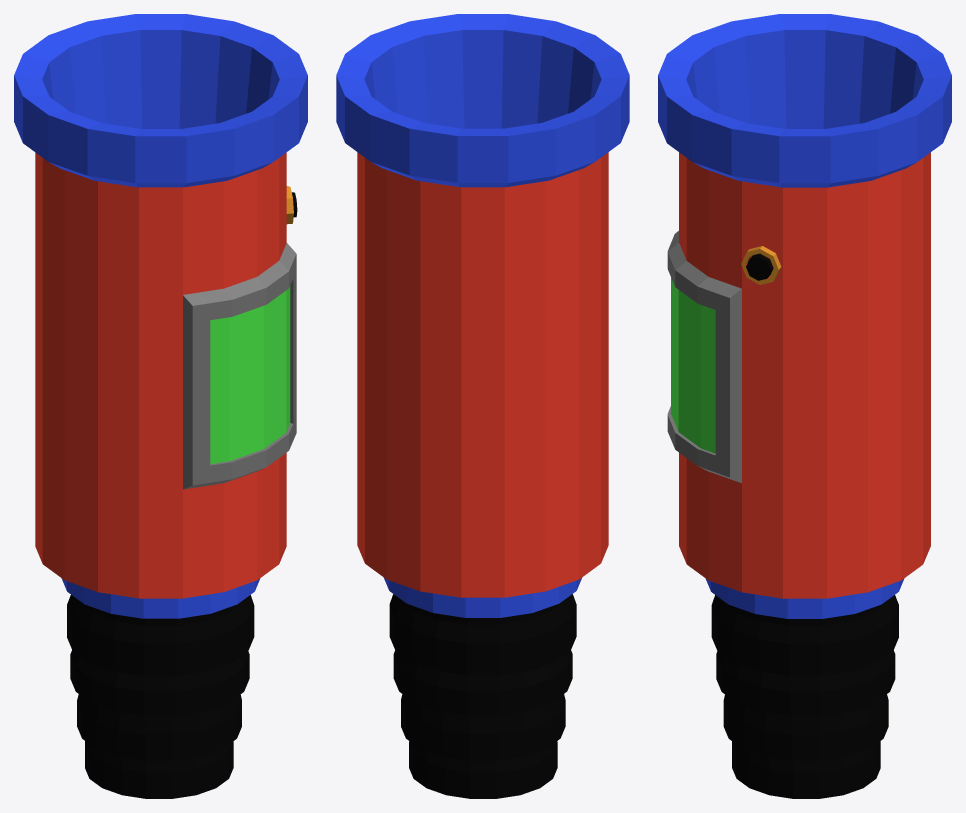
The model's file is VacuumNozzle.fbx.
The picture shows the model from 3 angles, left to right: view 1: azimuth 30°, elevation 25°; view 2: azimuth 150°, elevation 25°; view 3: azimuth 270°, elevation 25°; orthographic projection.
Parts seen in each view (by area): view 1: Cylinder; view 2: Cylinder; view 3: Cylinder.
Boxes of the visible parts, x1=… form: Cylinder: x1=14, y1=14, x2=307, y2=798; Cylinder: x1=336, y1=14, x2=629, y2=798; Cylinder: x1=658, y1=14, x2=951, y2=798.
Size of the model in its own units: 15.78 by 41.71 by 16.02.
